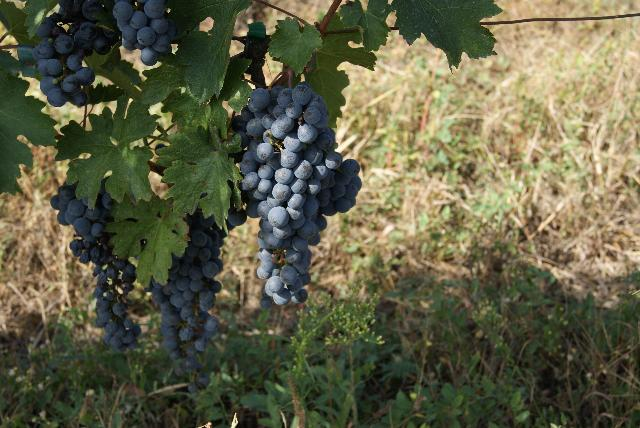grapes: (231, 81, 361, 309), (50, 178, 141, 352), (32, 0, 179, 106), (145, 210, 226, 392)
